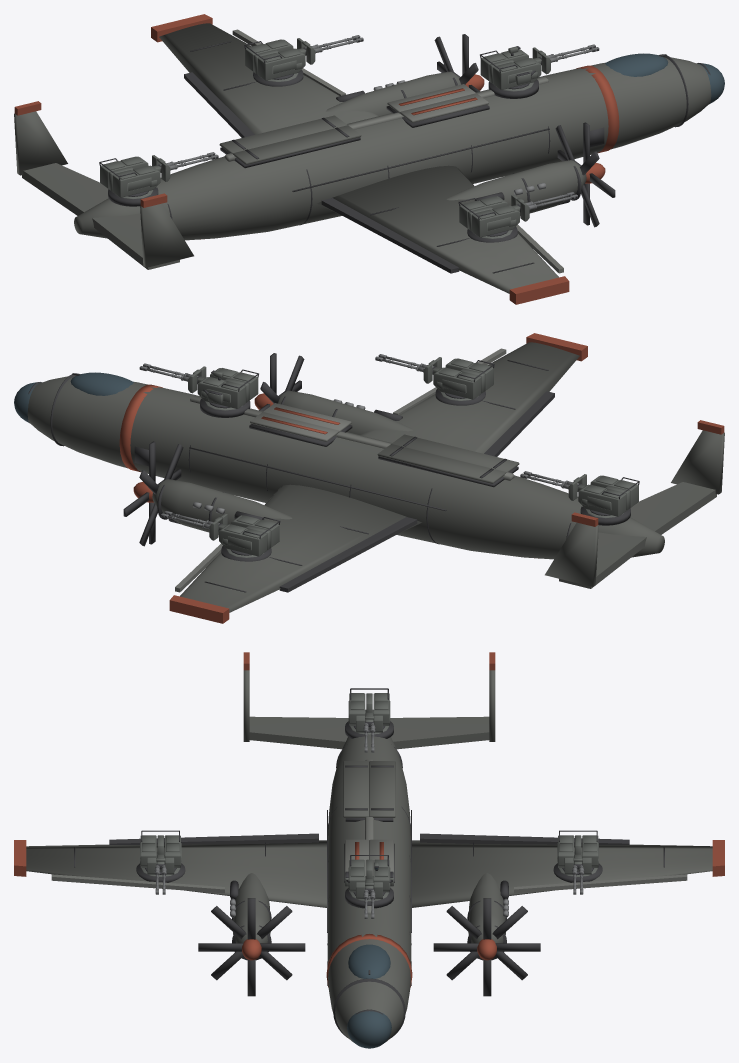
File: fh_battle_e_fortress.glb
3 views of the same model, one above another, from view 1: azimuth 30°, elevation 25°; view 2: azimuth 150°, elevation 25°; view 3: azimuth 270°, elevation 25° (orthographic). The views are drawn at different scales.
Parts seen in each view (by area): view 1: fortress, turret_3, turret_2, turret_1, turret_4, hull_r, hull_l, hatch_r, hatch_l, engine_r_prop, engine_r_prop2, core (+1 smaller); view 2: fortress, turret_3, turret_1, turret_2, turret_4, hull_l, hull_r, hatch_l, hatch_r, engine_l_prop, engine_l_prop2, core (+1 smaller); view 3: fortress, turret_3, turret_4, turret_1, turret_2, hull_l, hull_r, engine_l_prop, engine_r_prop, engine_l_prop2, engine_r_prop2.
Part boxes in pixels (left/top/right/bottom): fortress: left=14, top=14, right=724, bottom=304; turret_3: left=480, top=44, right=599, bottom=91; turret_2: left=458, top=192, right=577, bottom=238; turret_1: left=244, top=35, right=363, bottom=81; turret_4: left=99, top=152, right=218, bottom=199; hull_r: left=233, top=125, right=361, bottom=164; hull_l: left=219, top=115, right=347, bottom=153; hatch_r: left=400, top=93, right=488, bottom=122; hatch_l: left=387, top=84, right=475, bottom=113; engine_r_prop: left=557, top=122, right=615, bottom=225; engine_r_prop2: left=555, top=125, right=599, bottom=227; core: left=220, top=137, right=360, bottom=168; fortress: left=14, top=333, right=724, bottom=623; turret_3: left=139, top=363, right=258, bottom=410; turret_1: left=161, top=511, right=280, bottom=557; turret_2: left=375, top=354, right=494, bottom=400; turret_4: left=520, top=471, right=639, bottom=518; hull_l: left=377, top=444, right=505, bottom=483; hull_r: left=391, top=434, right=519, bottom=472; hatch_l: left=250, top=412, right=338, bottom=441; hatch_r: left=263, top=403, right=351, bottom=432; engine_l_prop: left=123, top=441, right=181, bottom=544; engine_l_prop2: left=139, top=444, right=183, bottom=546; core: left=378, top=456, right=518, bottom=487; fortress: left=14, top=652, right=724, bottom=1048; turret_3: left=345, top=855, right=393, bottom=918; turret_4: left=348, top=688, right=390, bottom=752; turret_1: left=557, top=830, right=598, bottom=894; turret_2: left=140, top=830, right=181, bottom=894; hull_l: left=369, top=761, right=395, bottom=817; hull_r: left=343, top=761, right=369, bottom=817; engine_l_prop: left=433, top=898, right=540, bottom=996; engine_r_prop: left=198, top=898, right=305, bottom=996; engine_l_prop2: left=446, top=906, right=527, bottom=980; engine_r_prop2: left=211, top=906, right=292, bottom=980.
Bounding box in the file's own units: 1 × 0.2 × 0.984.
